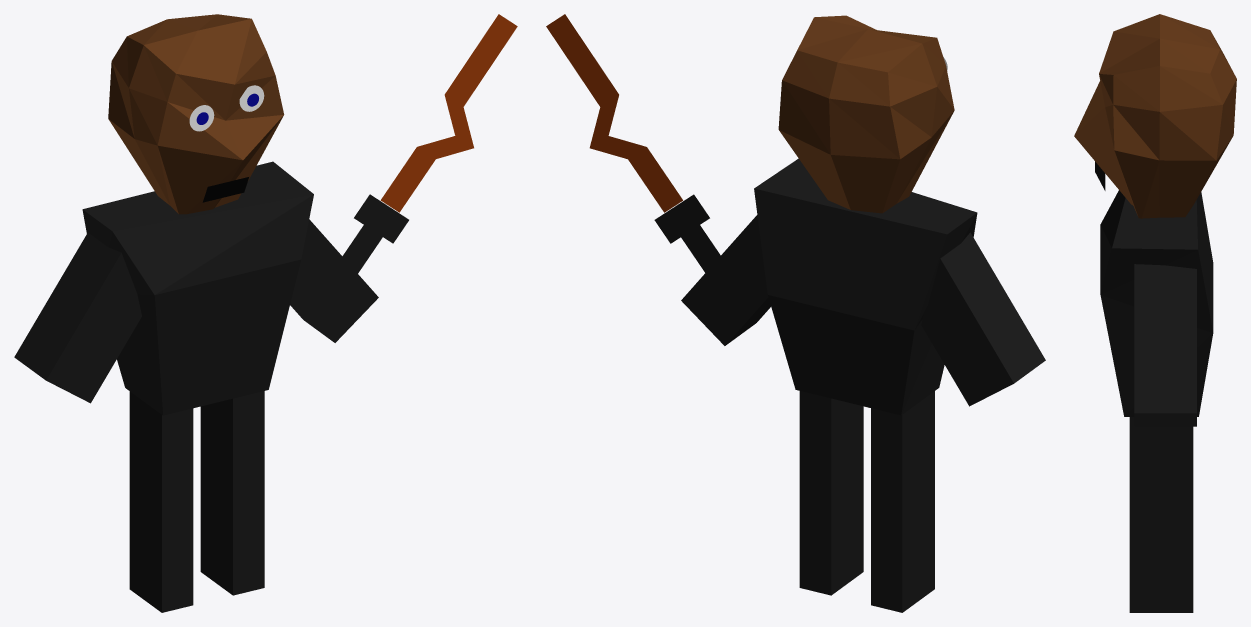
File: swordsman1.obj
3 views of the same model, side by side, from view 1: azimuth 30°, elevation 25°; view 2: azimuth 150°, elevation 25°; view 3: azimuth 270°, elevation 25° (orthographic).
Visible parts, largest first — view 1: Cube.001, Cube, Cube.004, Cube.005, Cube.003, Cube.002, Plane.003_Plane.004, Plane.002_Plane.003, Plane.001_Plane.002; view 2: Cube.001, Cube, Cube.004, Cube.005, Cube.003, Cube.002, Plane.003_Plane.004, Plane.002_Plane.003, Plane.001_Plane.002; view 3: Cube, Cube.005, Cube.001, Cube.002.
Part boxes in pixels (<box>): Cube.001: <box>82,161,313,415</box>; Cube: <box>108,14,284,214</box>; Cube.004: <box>129,391,193,612</box>; Cube.005: <box>200,391,264,595</box>; Cube.003: <box>14,232,141,403</box>; Cube.002: <box>290,219,378,342</box>; Plane.003_Plane.004: <box>380,14,517,212</box>; Plane.002_Plane.003: <box>354,194,408,243</box>; Plane.001_Plane.002: <box>342,221,382,273</box>; Cube.001: <box>754,158,977,415</box>; Cube: <box>778,15,954,213</box>; Cube.004: <box>871,391,934,612</box>; Cube.005: <box>799,391,863,595</box>; Cube.003: <box>921,232,1045,406</box>; Cube.002: <box>681,215,770,345</box>; Plane.003_Plane.004: <box>546,14,682,212</box>; Plane.002_Plane.003: <box>654,194,709,243</box>; Plane.001_Plane.002: <box>678,221,720,272</box>; Cube: <box>1074,14,1236,218</box>; Cube.005: <box>1129,417,1193,612</box>; Cube.001: <box>1100,190,1213,416</box>; Cube.002: <box>1134,264,1196,426</box>.
Size of the model in its own units: 5.33 by 5.86 by 1.57.
